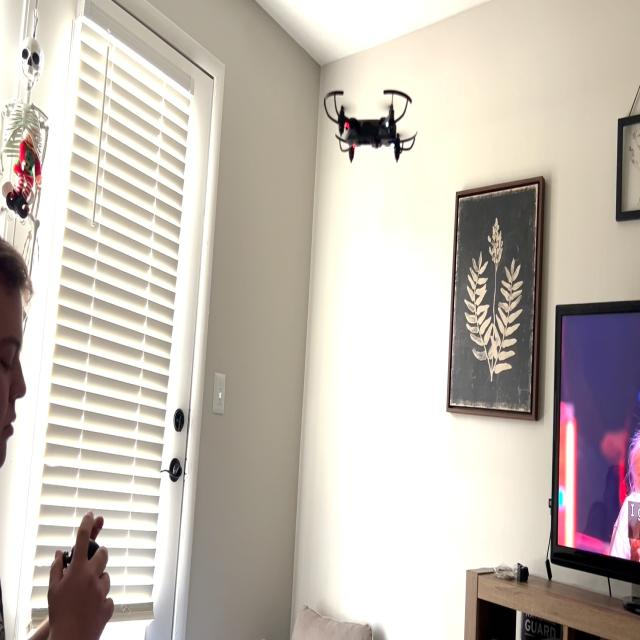drone: (318, 70, 422, 178)
